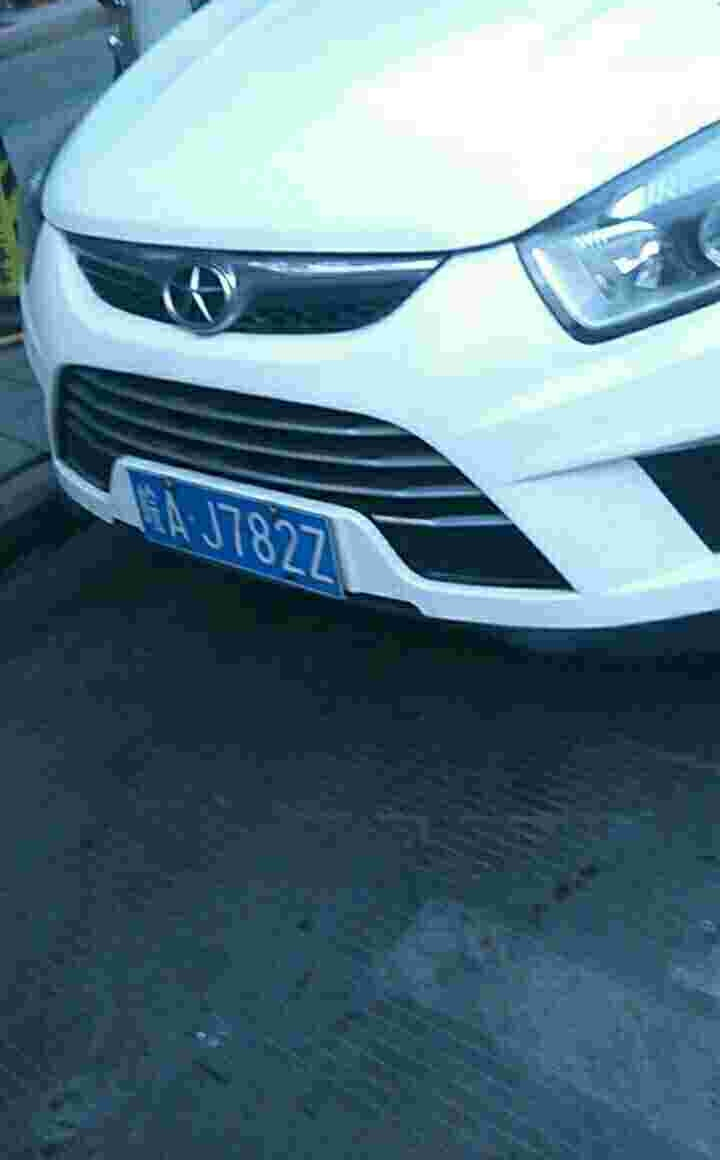license_plate: (113, 465, 344, 597)
